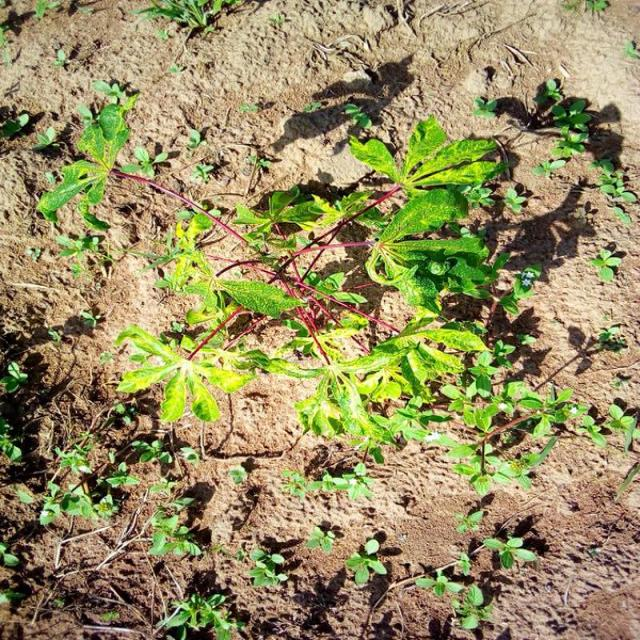cassava leaf: (217, 276, 309, 319)
